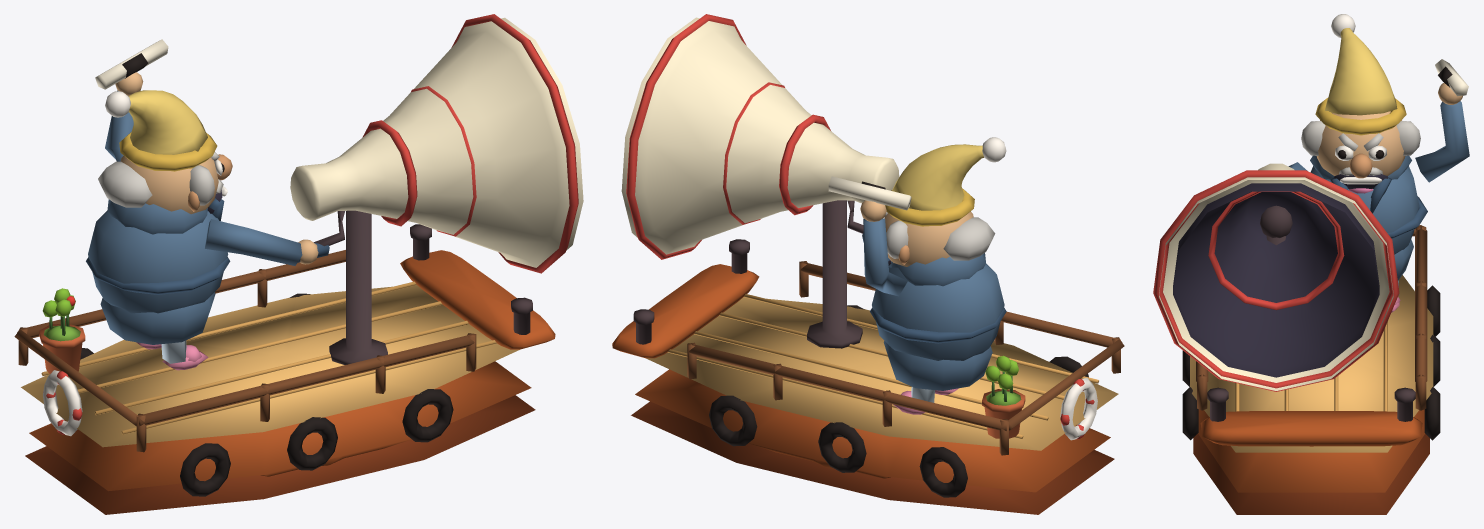
The model's file is vecino.glb.
3 renders of one model, left to right at view 1: azimuth 30°, elevation 25°; view 2: azimuth 150°, elevation 25°; view 3: azimuth 270°, elevation 25°, orthographic. The views are drawn at different scales.
Visible parts, largest first — view 1: vecino_enemigo; view 2: vecino_enemigo; view 3: vecino_enemigo.
Boxes of the visible parts, <box> form: vecino_enemigo: <box>14,14,583,514</box>; vecino_enemigo: <box>612,14,1124,514</box>; vecino_enemigo: <box>1153,14,1469,514</box>.
Bounding box in the file's own units: 2.72 × 2.23 × 1.79.
